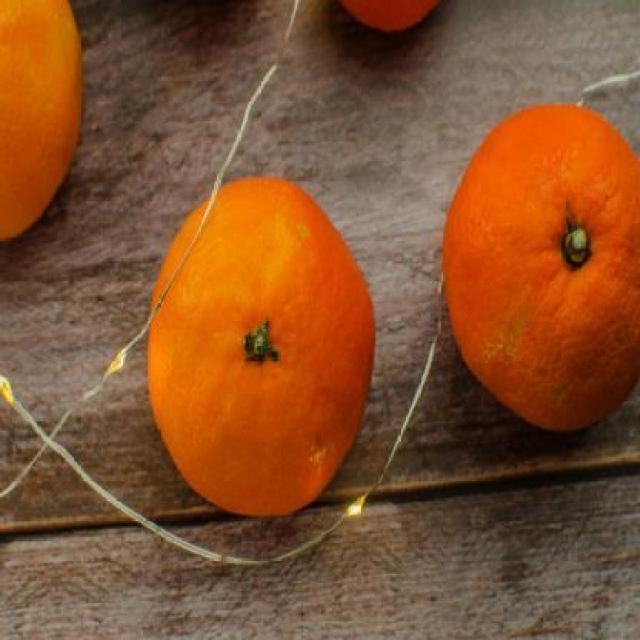Jeruk Sudah Matang: (147, 175, 380, 522), (438, 105, 638, 433), (0, 0, 85, 248)
